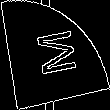M_W: (30, 28, 80, 82)
